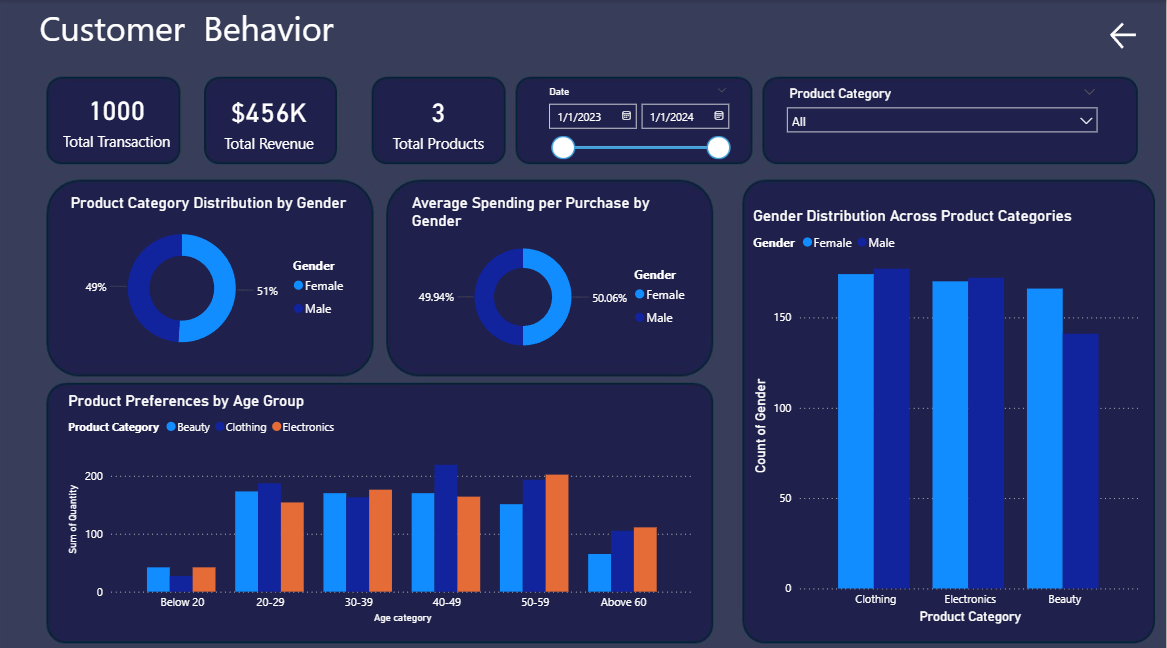

The dashboard page shown, as its layout file describes it:
{"tool":"powerbi","page":{"name":"Page 2","canvas":[1280,720],"ordinal":1},"visuals":[{"type":"clusteredColumnChart","title":" Gender Distribution Across Product Categories","fields":{"Category":["Sales Dataset.Product Category"],"Y":["CountNonNull(Sales Dataset.Gender)"],"Series":["Sales Dataset.Gender"]},"box":[821.7,226.7,435,463.3],"z":0},{"type":"clusteredColumnChart","title":"Product Preferences by Age Group","fields":{"Category":["Sales Dataset.Age category"],"Series":["Sales Dataset.Product Category"],"Y":["Sum(Sales Dataset.Quantity)"]},"box":[70,430,697.1,260],"z":1000},{"type":"card","fields":{"Values":["CountNonNull(Sales Dataset.Product Category)"]},"box":[61.4,88.6,132.9,82.9],"z":2000},{"type":"card","fields":{"Values":["Sum(Sales Dataset.Total Amount)"]},"box":[232.9,91.4,124.3,82.9],"z":3000},{"type":"card","fields":{"Values":["Count(Sales Dataset.Product Category)"]},"box":[418.6,91.4,125.7,82.9],"z":4000},{"type":"slicer","fields":{"Values":["Sales Dataset.Date"]},"box":[590,88.6,220,87.1],"z":5000},{"type":"slicer","fields":{"Values":["Sales Dataset.Product Category"]},"box":[852.9,88.6,361.4,88.6],"z":6000},{"type":"donutChart","title":"Average Spending per Purchase by Gender","fields":{"Category":["Sales Dataset.Gender"],"Y":["Avg(Sales Dataset.Total Amount)"]},"box":[447.1,212.9,320,188.6],"z":7000},{"type":"donutChart","title":"Product Category Distribution by Gender","fields":{"Category":["Sales Dataset.Gender"],"Y":["CountNonNull(Sales Dataset.Product Category)"]},"box":[72.9,212.9,320,188.6],"z":8000},{"type":"textbox","box":[38.6,0,475.7,78.6],"z":9000},{"type":"actionButton","box":[1214.4,19.2,38.4,39.8],"z":9001}]}

Visuals, with their boxes in screenshot pixels (x1, y1, x2, y2), scaled from the page's 1280x720 canvas onto the 1167x648 screenshot:
" Gender Distribution Across Product Categories" clusteredColumnChart: 749/204/1146/621
"Product Preferences by Age Group" clusteredColumnChart: 64/387/699/621
card - CountNonNull(Sales Dataset.Product Category): 56/80/177/154
card - Sum(Sales Dataset.Total Amount): 212/82/326/157
card - Count(Sales Dataset.Product Category): 382/82/496/157
slicer - Sales Dataset.Date: 538/80/738/158
slicer - Sales Dataset.Product Category: 778/80/1107/159
"Average Spending per Purchase by Gender" donutChart: 408/192/699/361
"Product Category Distribution by Gender" donutChart: 66/192/358/361
textbox: 35/0/469/71
actionButton: 1107/17/1142/53
